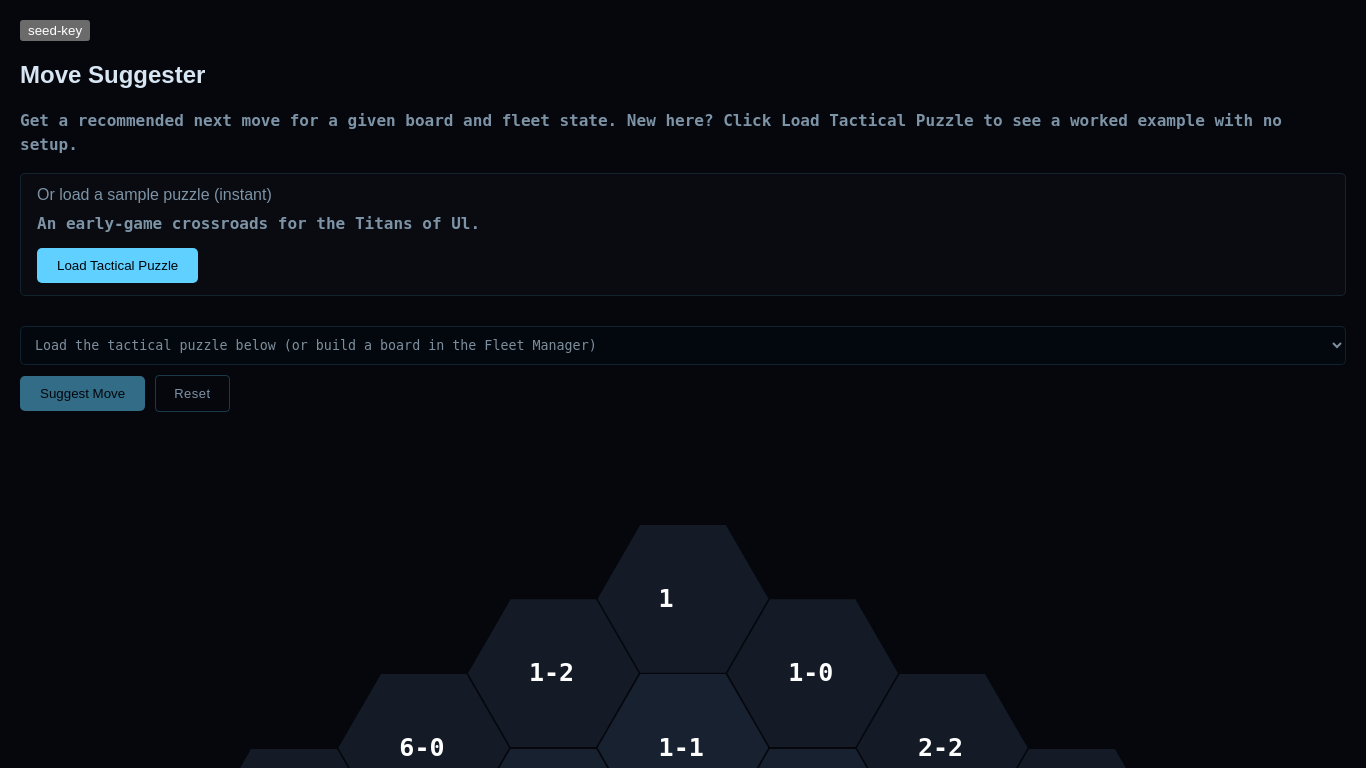
Test: MovePanel › loads the tactical puzzle, auto-selects the faction, and shows the saved move
This screenshot has width=1366, height=768.
Step 1. Click the button "Load Tactical Puzzle" → (118, 265), box [37, 248, 198, 283]
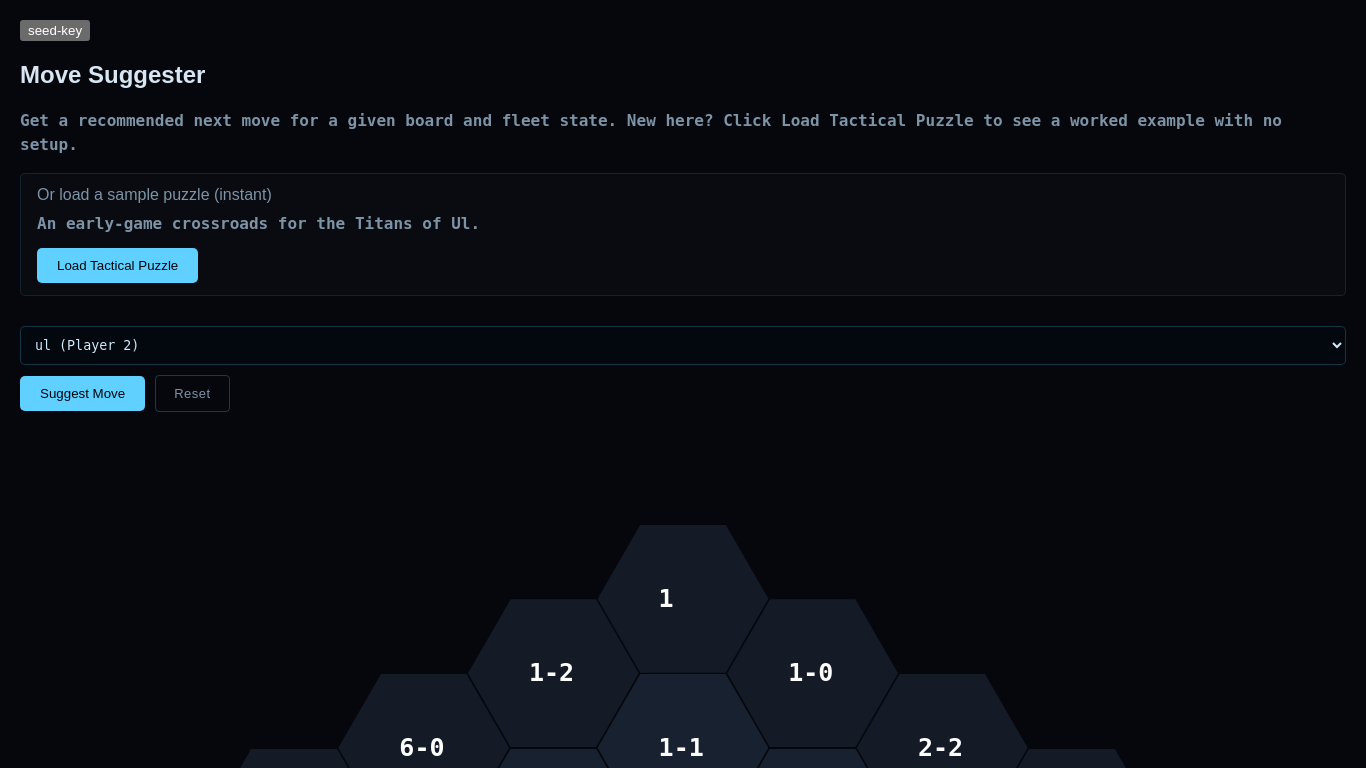
Now the dropdown named "Faction" shows "ul (Player 2)", box [20, 326, 1346, 365]
